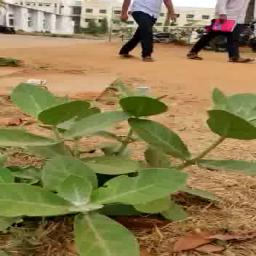CALOTROPIS: (8, 84, 240, 248)
